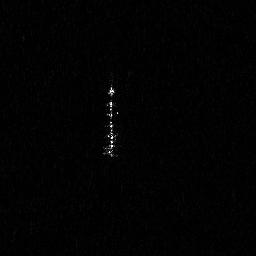ship: (101, 79, 118, 161)
